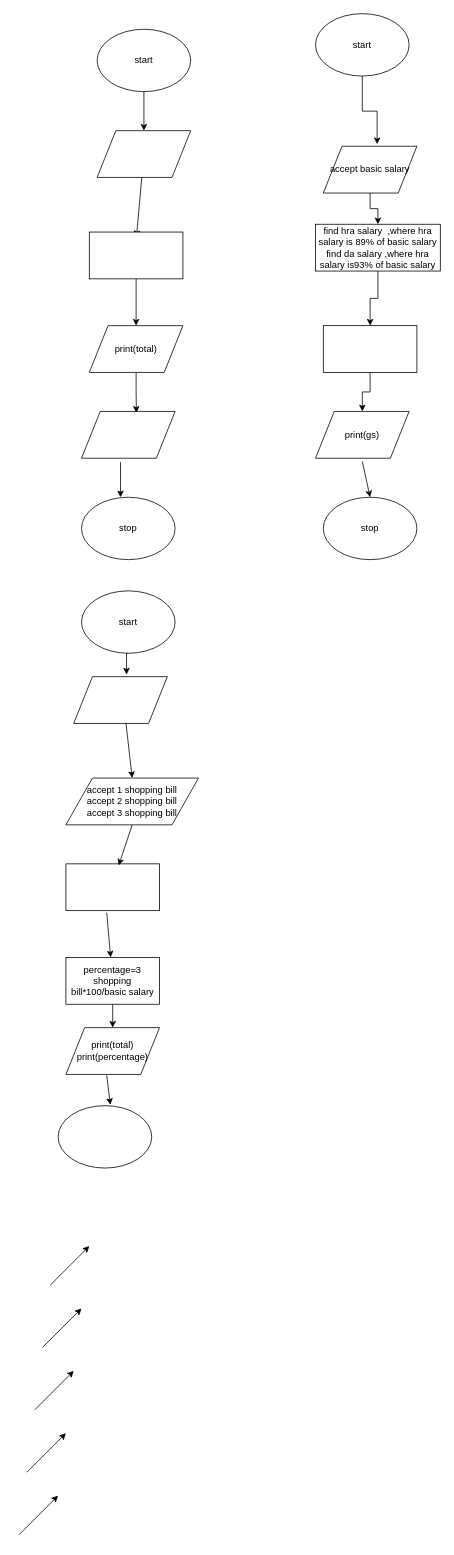
This 454x1555 diagram has some shape labels left out. The shapes that lost their labels are listed below. From the top down, each one's centre as x and y in pixels, then its label:
At [143,153]: "accept 1 subject accept 2 subject accept 3 subject marks".
At [136,255]: "total=sub1+sub2+sub3 avg=total/3".
At [370,348]: "gs=basic+hra+da".
At [128,434]: "print(avg)".
At [120,699]: "accept employe salary".
At [112,887]: "total =1bill+2bill+3bill".
